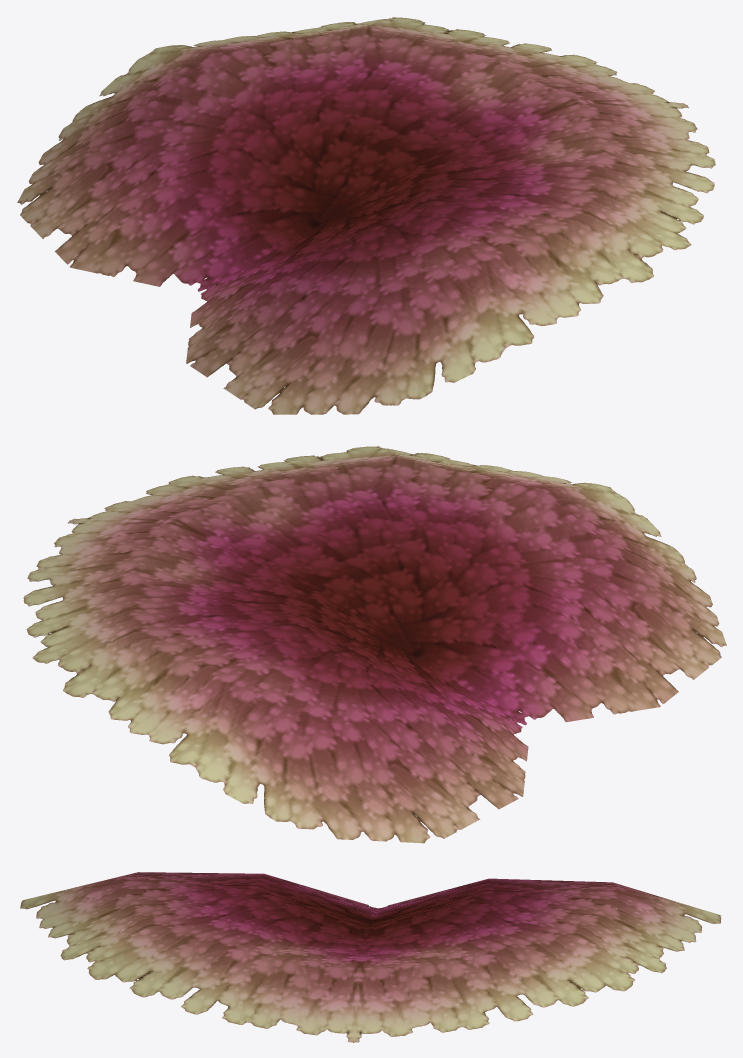
File: Coral_18.FBX
3 renders of one model, top to bottom at view 1: azimuth 30°, elevation 25°; view 2: azimuth 150°, elevation 25°; view 3: azimuth 270°, elevation 25°, orthographic. The views are drawn at different scales.
Parts seen in each view (by area): view 1: Coral_18; view 2: Coral_18; view 3: Coral_18.
Boxes of the visible parts, box(x1,y1,x2,y2) form: Coral_18: box(17, 17, 715, 414); Coral_18: box(23, 446, 726, 843); Coral_18: box(20, 872, 722, 1042).
Size of the model in its own units: 17.41 by 3.55 by 22.11.
